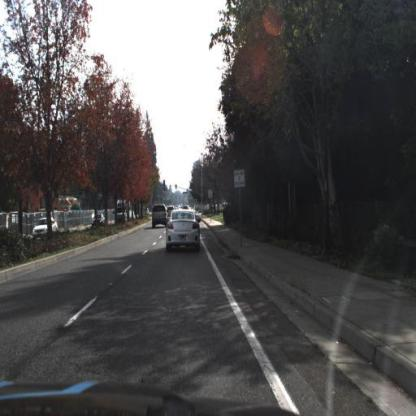car: (162, 204, 206, 259), (32, 217, 59, 240), (151, 203, 171, 230), (92, 211, 107, 229), (182, 203, 191, 216), (168, 204, 175, 219)
truck: (114, 199, 133, 224)
